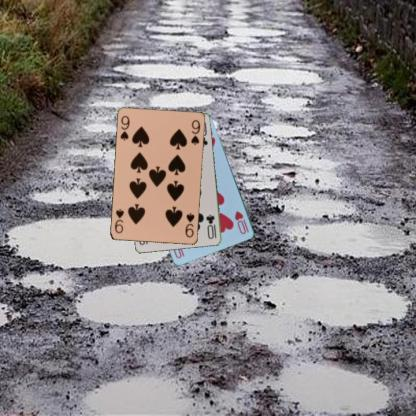10c: (203, 212, 218, 240)
10h: (232, 208, 250, 236)
9s: (182, 210, 196, 239), (118, 113, 130, 142)
